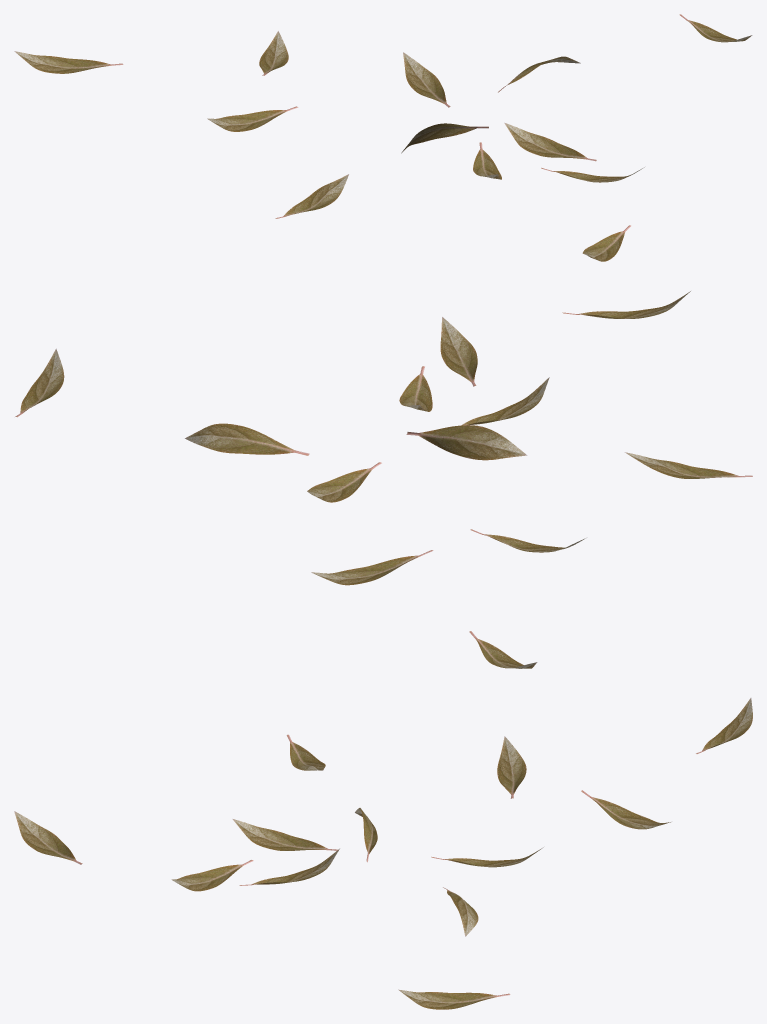
3 views of the same model, one above another, from view 1: azimuth 30°, elevation 25°; view 2: azimuth 150°, elevation 25°; view 3: azimuth 270°, elevation 25° (orthographic). The views are drawn at different scales.
Parts seen in each view (by area): view 1: Azalea_Litter_1.Shape; view 2: Azalea_Litter_1.Shape; view 3: Azalea_Litter_1.Shape.
Part boxes in pixels (x1,y1,x2,y2): Azalea_Litter_1.Shape: (14,14,752,261); Azalea_Litter_1.Shape: (15,291,752,668); Azalea_Litter_1.Shape: (14,698,752,1009).
Size of the model in its own units: 0.3548 by 0.0153 by 0.3775.
1 material, 1 textured.
